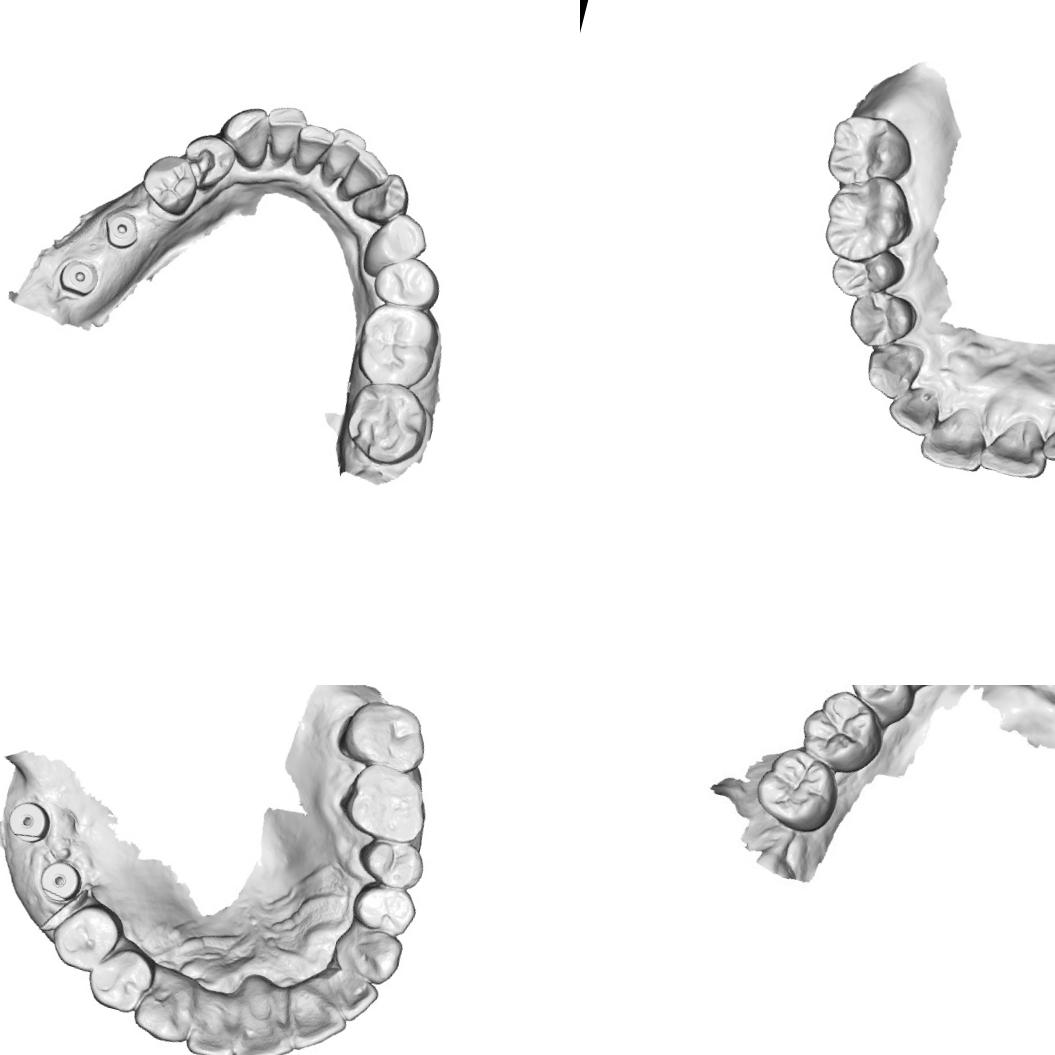canine: (128, 960, 204, 1046), (328, 917, 406, 988), (859, 332, 927, 404), (214, 100, 276, 175), (348, 161, 416, 229)
implant: (33, 855, 86, 909), (3, 796, 55, 847), (54, 252, 106, 300), (98, 204, 145, 252)
incisor: (222, 973, 308, 1055), (915, 396, 997, 476), (274, 979, 354, 1055), (977, 410, 1055, 484), (182, 983, 248, 1055), (310, 966, 382, 1026), (882, 378, 945, 438), (334, 142, 392, 205), (258, 100, 310, 170), (317, 125, 370, 187), (289, 119, 333, 178), (1038, 407, 1055, 470)
molar: (814, 164, 922, 274), (337, 372, 437, 474), (348, 296, 444, 396), (792, 685, 891, 781), (821, 105, 921, 199), (753, 740, 846, 836), (339, 758, 434, 848), (336, 691, 436, 776)
premolar: (44, 892, 128, 979), (353, 202, 435, 288), (80, 934, 161, 1018), (824, 237, 908, 308), (842, 284, 922, 357), (368, 250, 447, 320), (135, 148, 203, 218), (346, 877, 420, 941), (352, 832, 428, 894), (176, 128, 240, 199), (838, 685, 924, 728)
